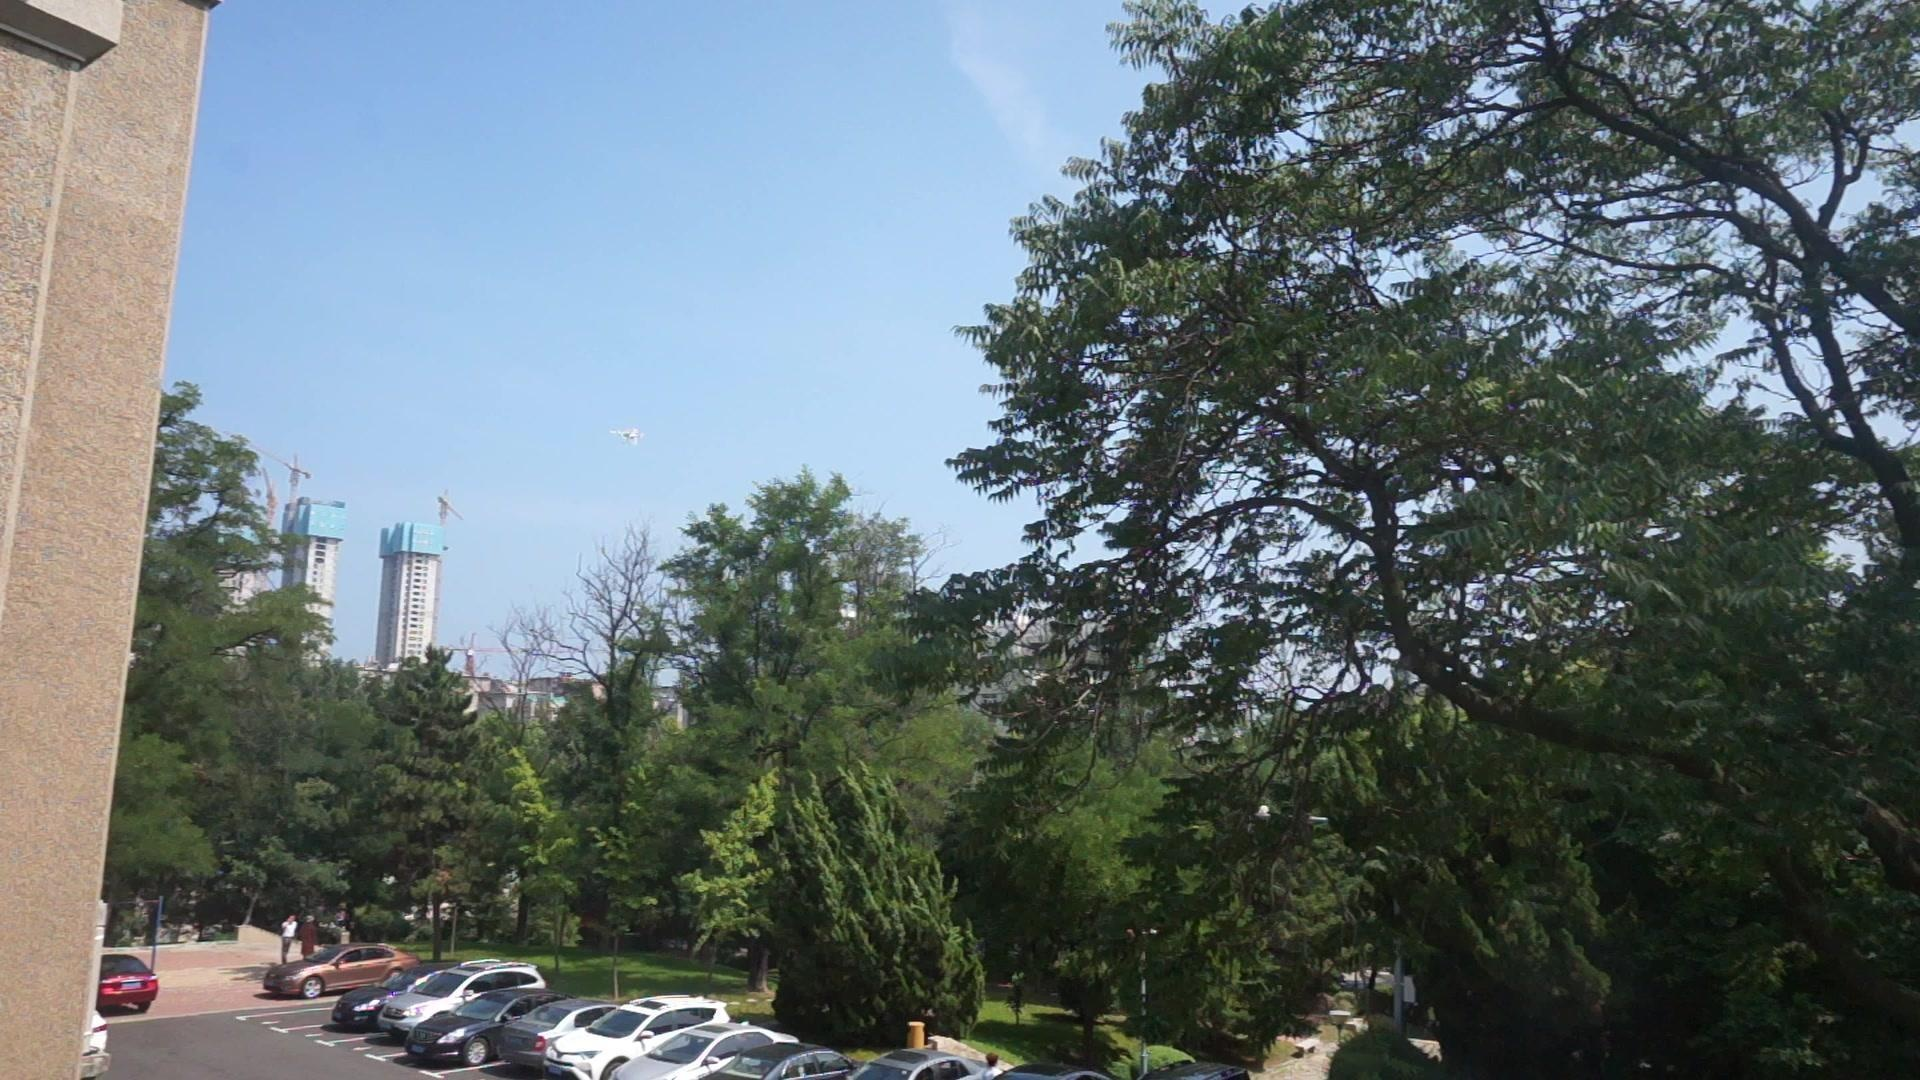UAV: (611, 430, 645, 444)
